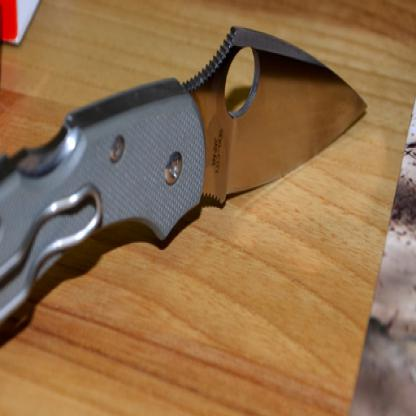knife: (0, 25, 367, 410)
